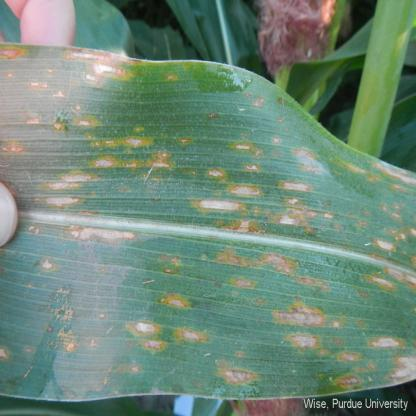Corn Gray leaf spot: (15, 38, 416, 402)
